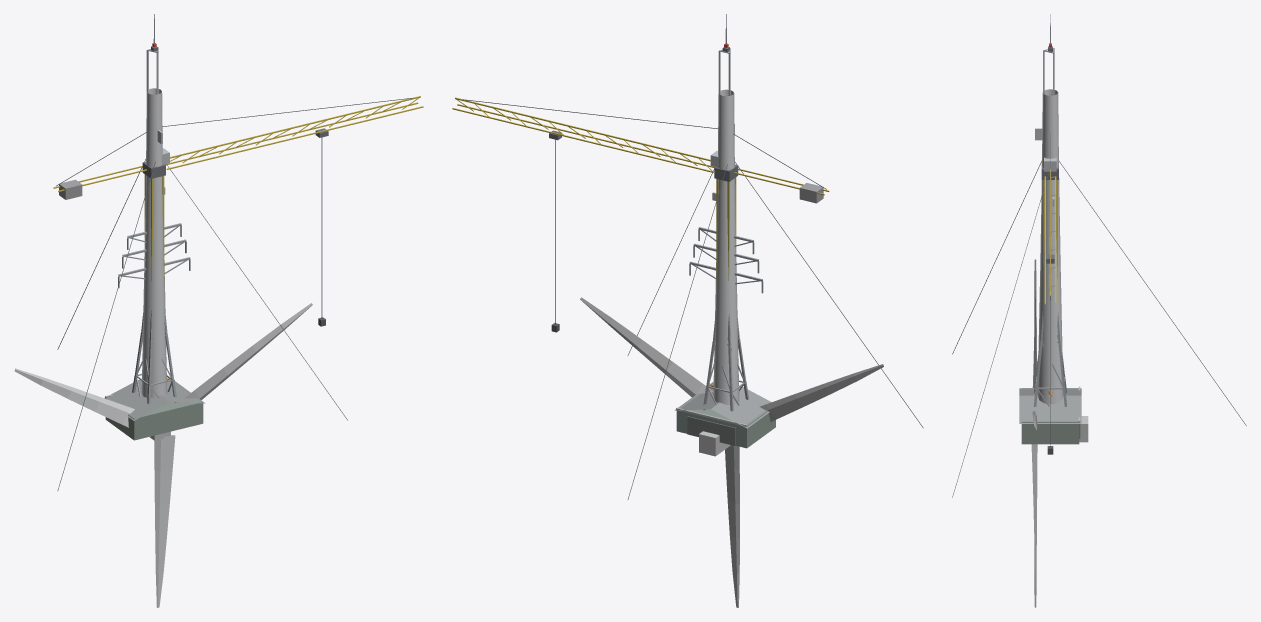
File: land_props.glb
3 renders of one model, left to right at view 1: azimuth 30°, elevation 25°; view 2: azimuth 150°, elevation 25°; view 3: azimuth 270°, elevation 25°, orthographic.
Parts seen in each view (by area): view 1: turbine_tower, turbine_head, crane, hangar, pylon, mast; view 2: turbine_tower, turbine_head, crane, hangar, pylon, mast; view 3: turbine_tower, hangar, crane, turbine_head, mast, pylon.
Part boxes in pixels (left/top/right/bottom): turbine_tower: left=141, top=88, right=167, bottom=397; turbine_head: left=14, top=303, right=312, bottom=607; crane: left=53, top=96, right=423, bottom=326; hangar: left=104, top=379, right=205, bottom=440; pylon: left=118, top=223, right=190, bottom=405; mast: left=57, top=14, right=347, bottom=491; turbine_tower: left=713, top=89, right=739, bottom=404; turbine_head: left=580, top=297, right=883, bottom=607; crane: left=452, top=97, right=829, bottom=332; hangar: left=674, top=386, right=775, bottom=448; pylon: left=689, top=227, right=763, bottom=411; mast: left=627, top=14, right=923, bottom=499; turbine_tower: left=1037, top=89, right=1063, bottom=404; hangar: left=1019, top=386, right=1081, bottom=444; crane: left=1041, top=133, right=1058, bottom=454; turbine_head: left=1031, top=259, right=1088, bottom=607; mast: left=952, top=14, right=1246, bottom=497; pylon: left=1033, top=237, right=1066, bottom=406.
Bounding box in the file's own units: 83.93 × 114 × 51.07.
